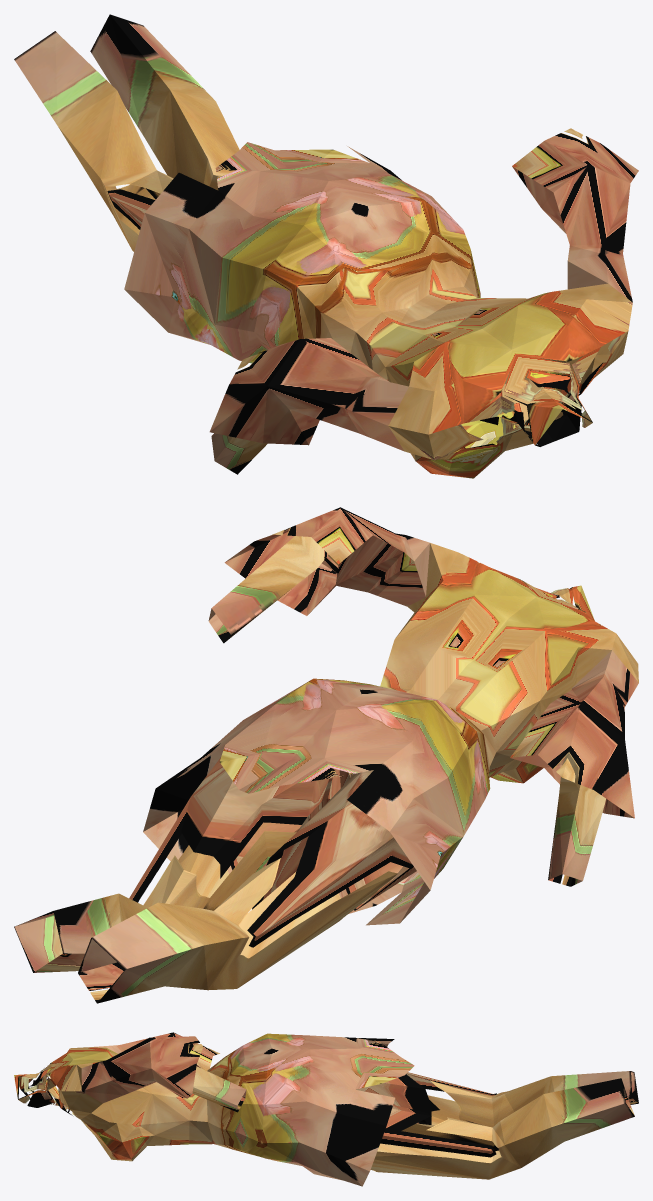
File: a_ss_f_clo_00.obj
3 renders of one model, top to bottom at view 1: azimuth 30°, elevation 25°; view 2: azimuth 150°, elevation 25°; view 3: azimuth 270°, elevation 25°, orthographic. The views are drawn at different scales.
Bounding box in the file's own units: 15.03 × 9.4 × 31.33.
